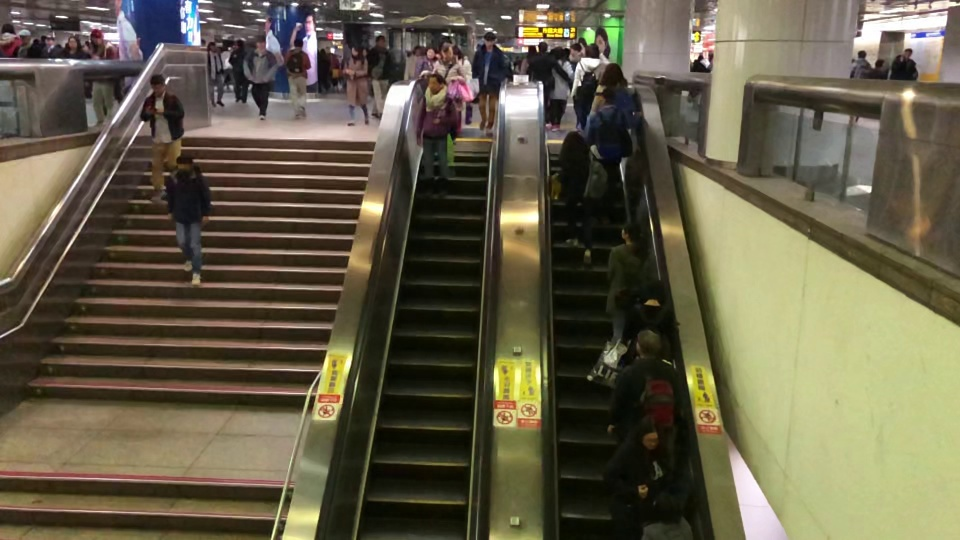person_head: (652, 489, 682, 525), (635, 414, 661, 450), (633, 327, 660, 359), (598, 61, 627, 88), (560, 130, 586, 156), (641, 277, 664, 300), (620, 220, 642, 243), (593, 88, 616, 108), (175, 153, 194, 176), (426, 74, 445, 94), (149, 74, 166, 95), (439, 41, 453, 63), (451, 44, 465, 64), (483, 30, 497, 48), (90, 28, 104, 45), (17, 28, 31, 44), (584, 44, 599, 58), (1, 22, 16, 34), (255, 34, 267, 49), (553, 45, 564, 61), (45, 31, 56, 46), (67, 36, 79, 49), (349, 43, 360, 57), (375, 34, 386, 48), (426, 45, 436, 60), (537, 41, 548, 54), (903, 46, 913, 60), (874, 58, 886, 69), (293, 37, 304, 48), (236, 38, 245, 48), (207, 41, 217, 50), (857, 50, 866, 59)
person_vbox: (602, 416, 672, 538), (607, 330, 684, 437), (583, 89, 642, 223), (605, 218, 659, 347), (558, 129, 608, 263), (165, 155, 215, 285), (139, 73, 185, 201), (414, 72, 458, 198), (419, 40, 467, 146), (620, 278, 675, 366), (527, 41, 572, 127), (472, 31, 506, 136), (590, 61, 641, 129), (86, 27, 118, 127), (570, 42, 610, 119), (639, 488, 694, 540), (243, 35, 276, 120), (283, 36, 312, 118), (341, 45, 370, 126), (548, 46, 575, 131), (366, 35, 392, 121), (450, 43, 473, 110), (228, 39, 250, 103), (206, 41, 226, 107), (10, 28, 43, 58), (891, 47, 918, 80), (414, 47, 441, 77), (0, 22, 22, 57), (39, 31, 64, 57), (850, 49, 871, 79), (62, 35, 87, 59), (869, 59, 888, 79)
